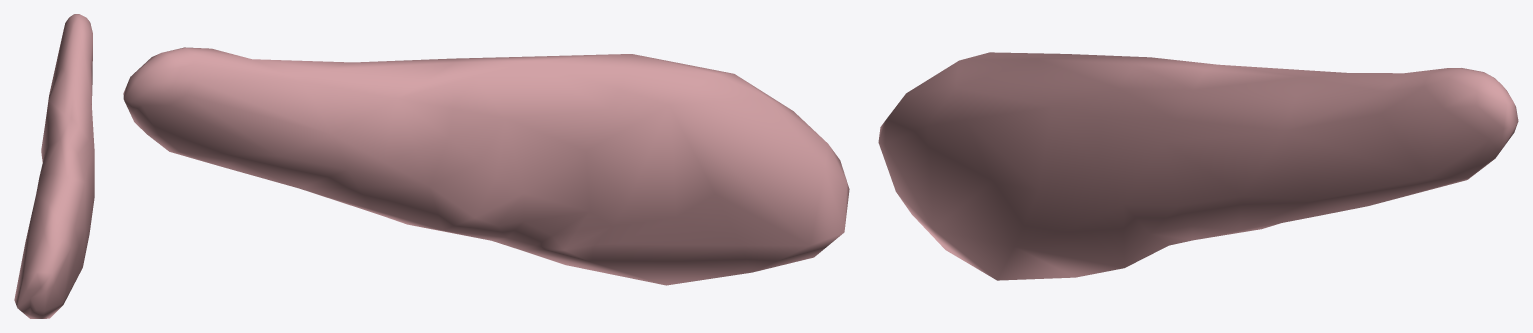
The picture shows the model from 3 angles, left to right: view 1: azimuth 30°, elevation 25°; view 2: azimuth 150°, elevation 25°; view 3: azimuth 270°, elevation 25°; orthographic projection. The views are drawn at different scales.
Visible parts, largest first — view 1: ZA_07765ba618a239f3; view 2: ZA_07765ba618a239f3; view 3: ZA_07765ba618a239f3.
Boxes of the visible parts, x1,y1,x2,y2 form: ZA_07765ba618a239f3: (14,14,94,318); ZA_07765ba618a239f3: (123,47,849,285); ZA_07765ba618a239f3: (878,52,1518,280).
Bounding box in the file's own units: 0.0165 × 0.0124 × 0.0212.
